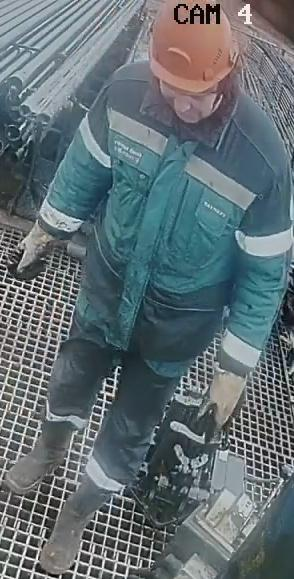gloves: (197, 364, 250, 440), (6, 218, 63, 280)
helmet: (148, 0, 240, 99)
vest: (71, 64, 291, 360)
